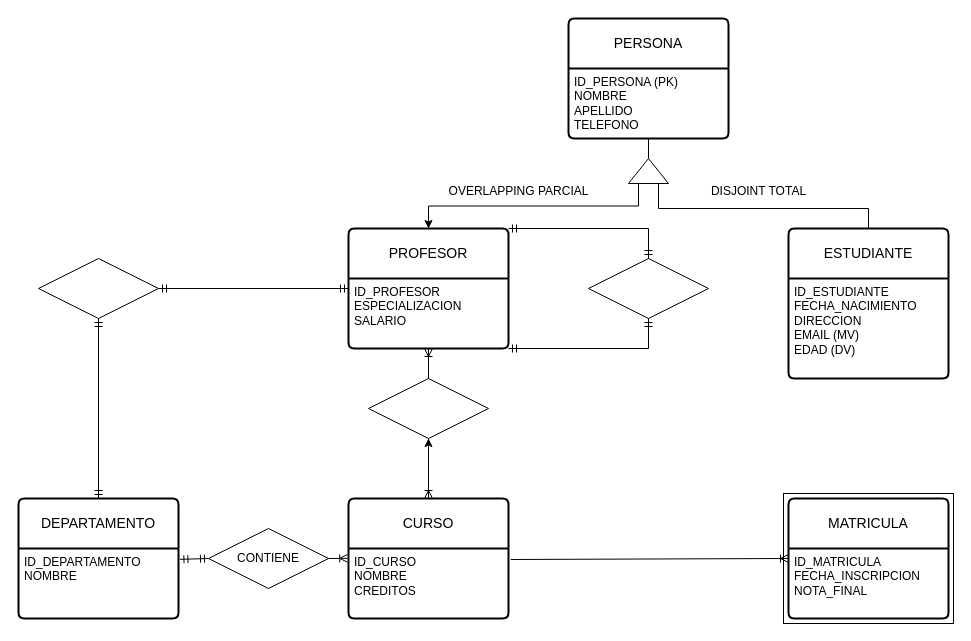
Image size: 971x641. Some labels were removed from this diagram. The shapes that lost their labels are listed below. From the top down, each one's centre as x and y in pixels, then its label:
At [98,288]: "DIRIGE".
At [648,288]: "SE REPORTA HA".
At [428,408]: "IMPARTE".
